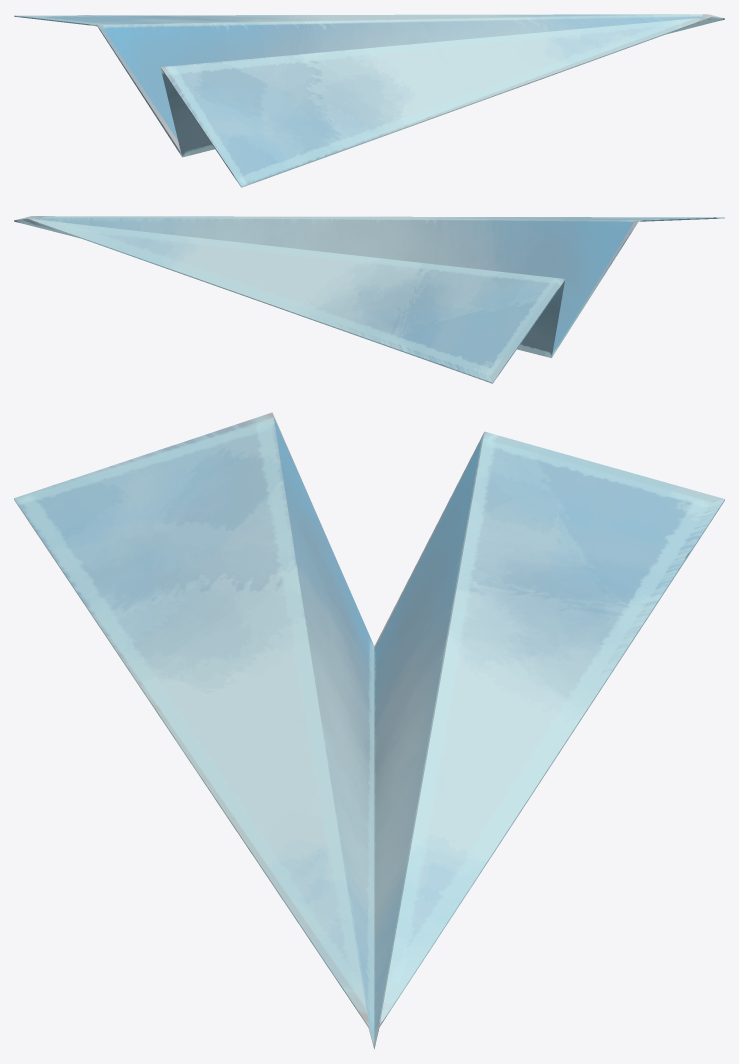
The model's file is paper_plane.glb.
3 views of the same model, one above another, from view 1: azimuth 30°, elevation 25°; view 2: azimuth 150°, elevation 25°; view 3: azimuth 270°, elevation 25° (orthographic). The views are drawn at different scales.
Visible parts, largest first — view 1: Plane; view 2: Plane; view 3: Plane.
Part boxes in pixels (x1=…): Plane: x1=14, y1=14, x2=724, y2=187; Plane: x1=14, y1=216, x2=724, y2=383; Plane: x1=14, y1=412, x2=724, y2=1048.
Bounding box in the file's own units: 221 × 45.08 × 147.
1 material, 1 textured.
